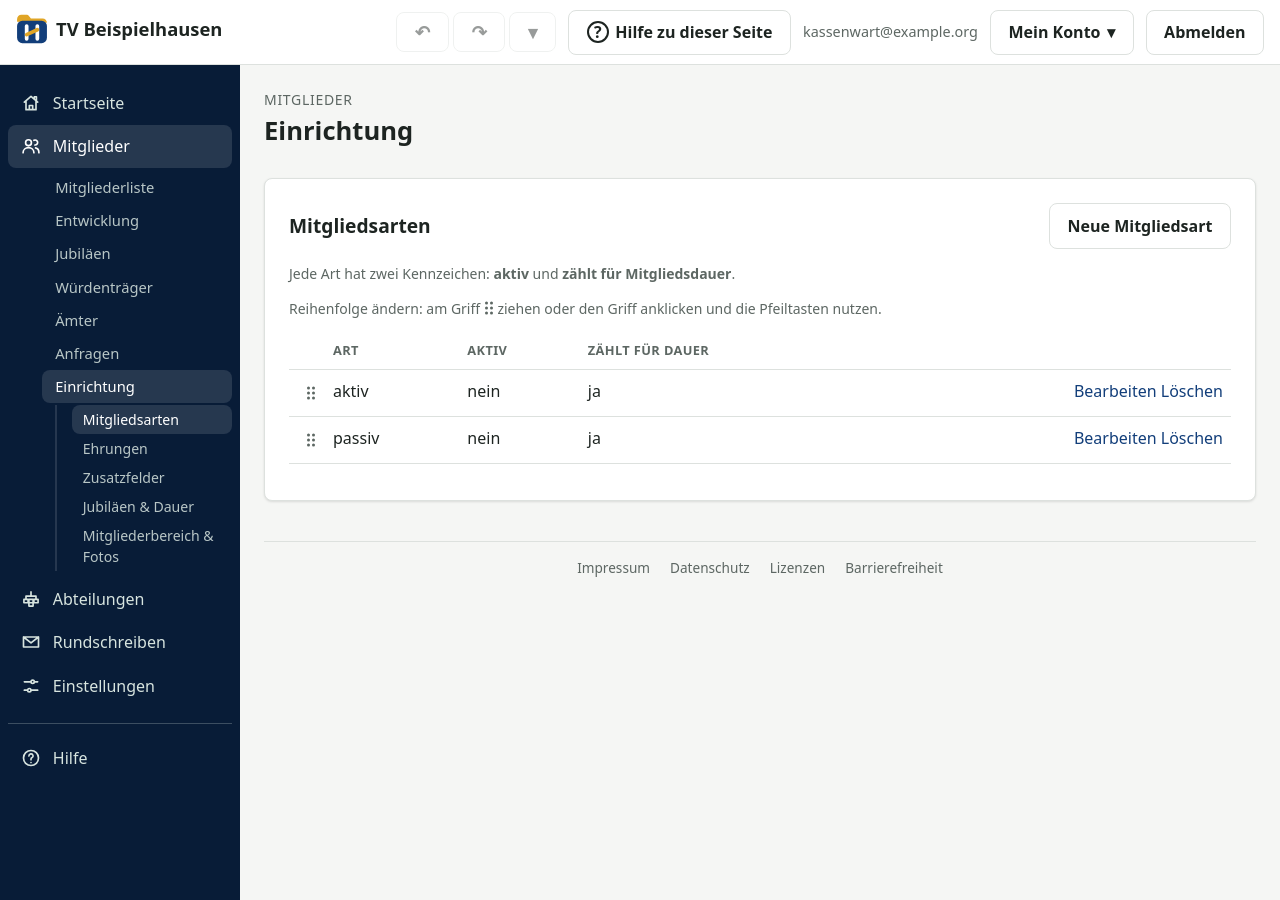
Test: Mitgliedsarten löschen › zeigt vor dem Archivieren den Grund und archiviert
Click the button with aria-label "passiv löschen" at [1192, 438], box left=1161, top=426, right=1223, bottom=450
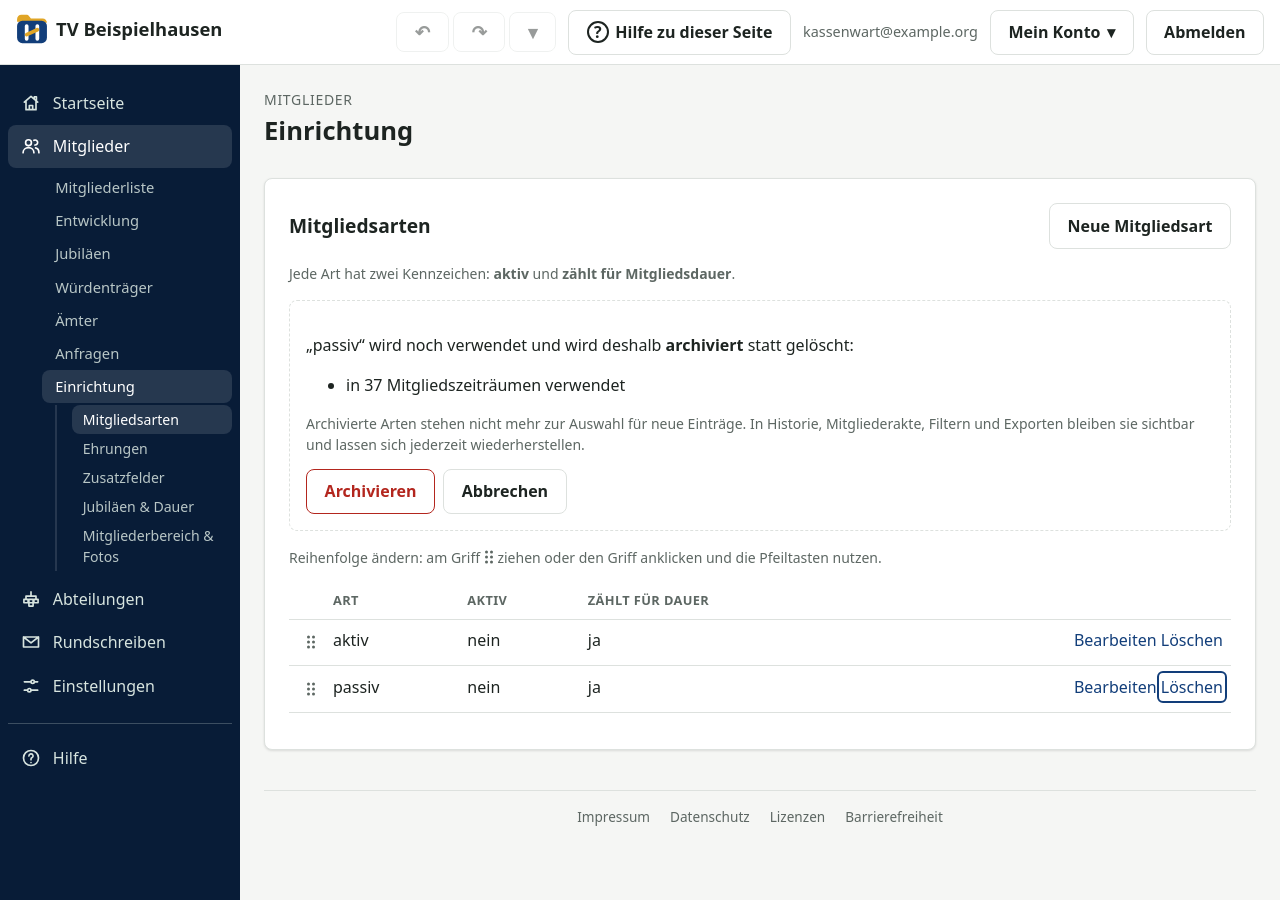
Result: the list item "in 37 Mitgliedszeiträumen verwendet" is shown at left=346, top=374, right=625, bottom=396
Click the button "Archivieren" at [371, 491], box left=306, top=468, right=435, bottom=514
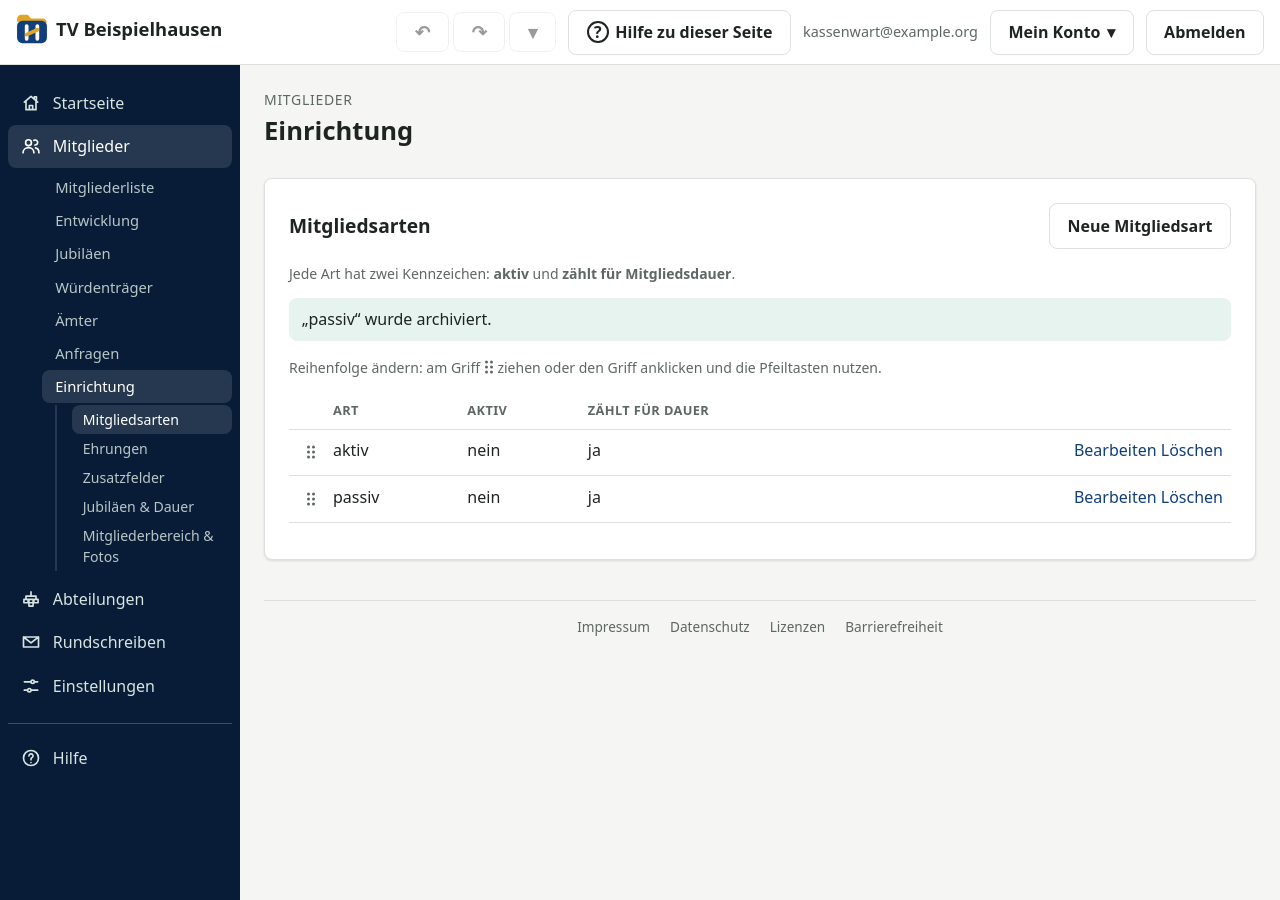
Result: the text "„passiv“ wurde archiviert." is shown at left=289, top=298, right=1231, bottom=341
